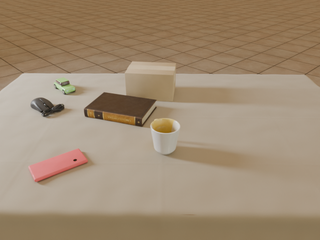book: (84, 92, 156, 126)
box: (125, 62, 176, 102)
cup: (151, 118, 180, 155)
mouse: (31, 98, 64, 117)
phone: (29, 149, 88, 182)
toy_car: (54, 77, 75, 94)
